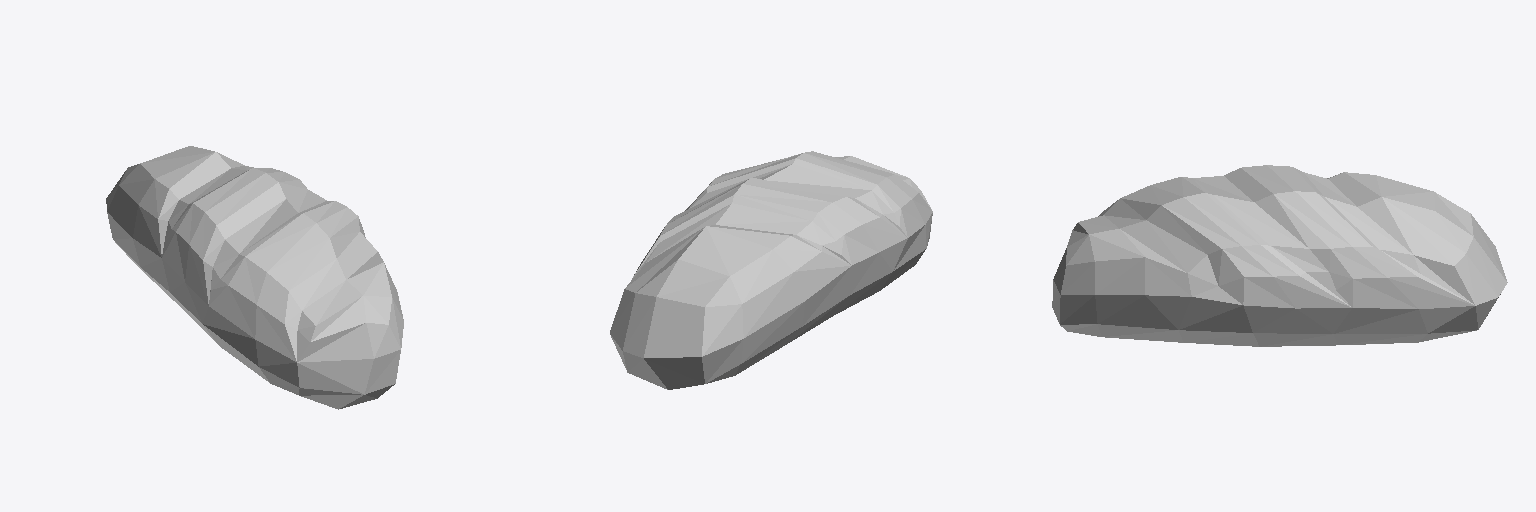
File: Bread.obj
The picture shows the model from 3 angles: view 1: azimuth 30°, elevation 25°; view 2: azimuth 150°, elevation 25°; view 3: azimuth 270°, elevation 25°; orthographic projection.
Visible parts, largest first — view 1: Bread:Mesh; view 2: Bread:Mesh; view 3: Bread:Mesh.
Boxes of the visible parts, <box> form: Bread:Mesh: <box>106,146,403,409</box>; Bread:Mesh: <box>610,151,932,389</box>; Bread:Mesh: <box>1052,165,1507,346</box>.
Size of the model in its own units: 2.19 by 1.64 by 4.61.